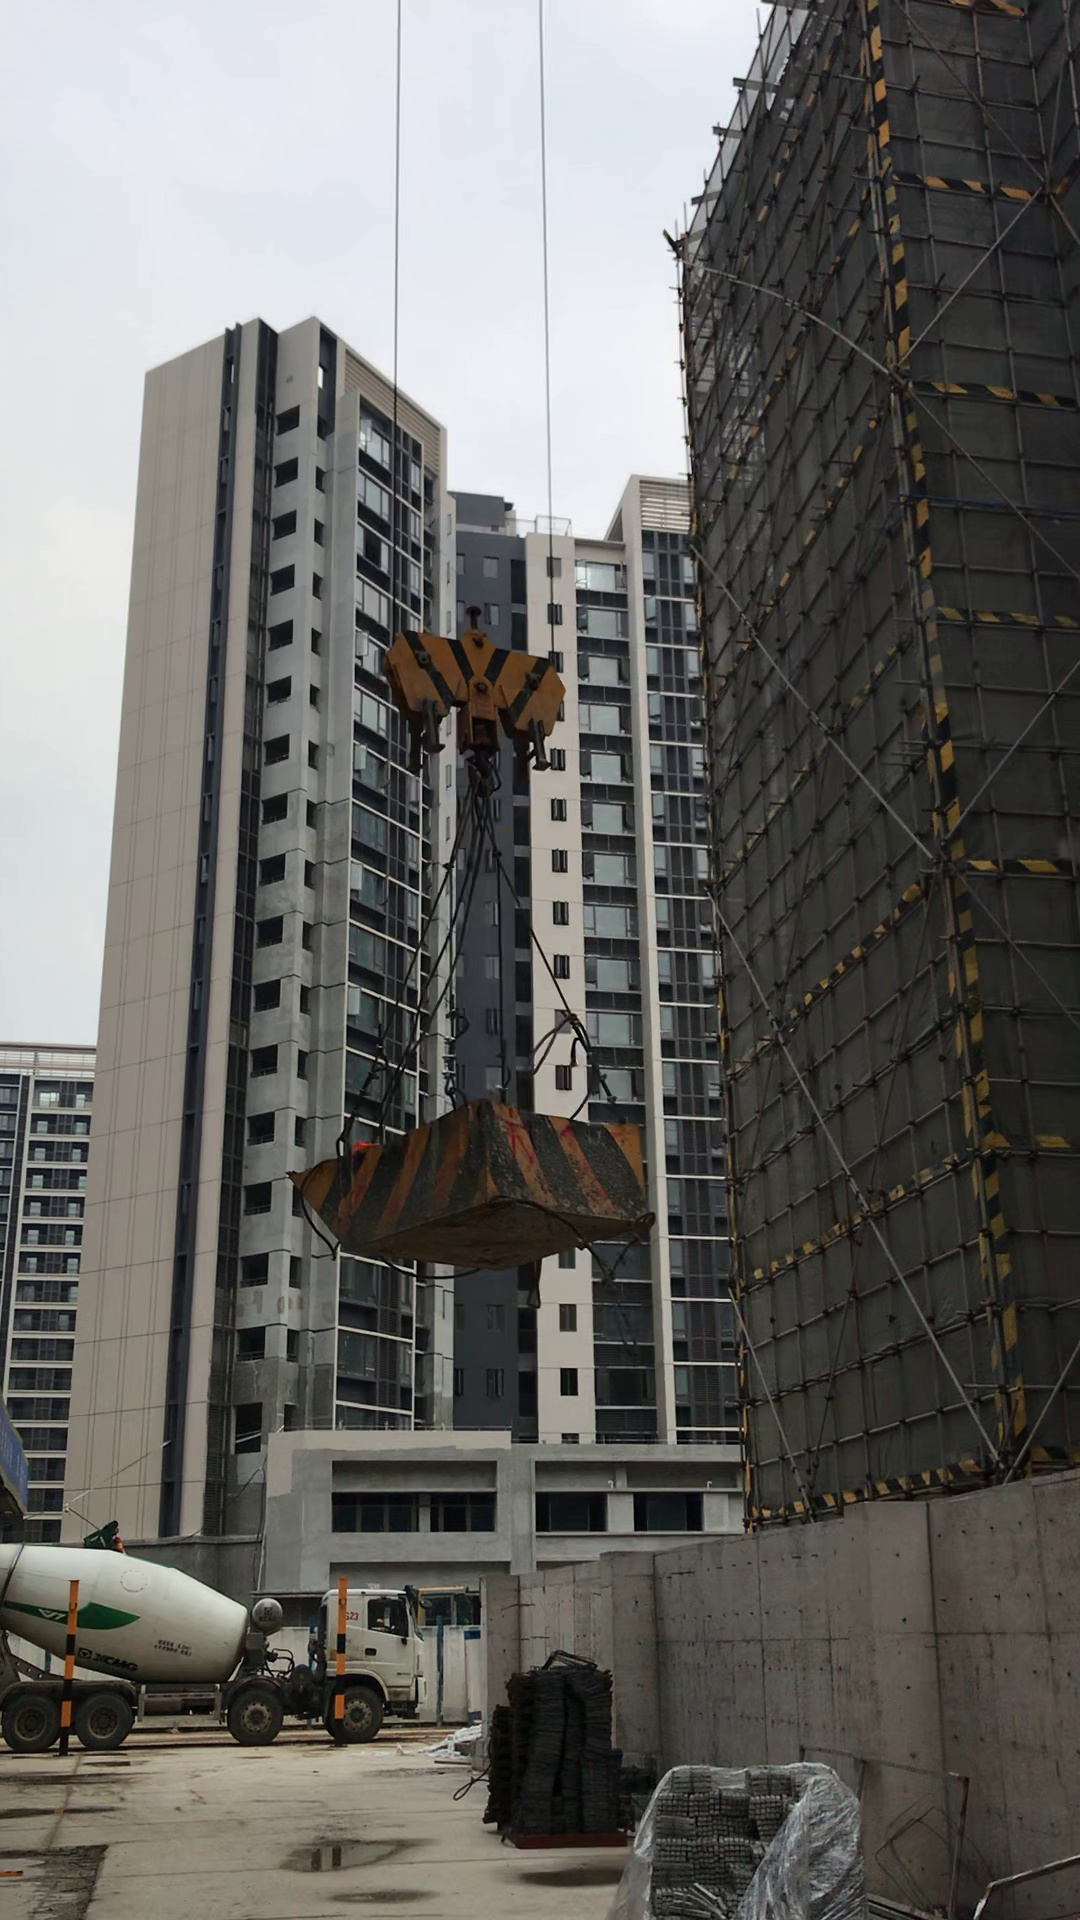hook: (377, 587, 560, 764)
